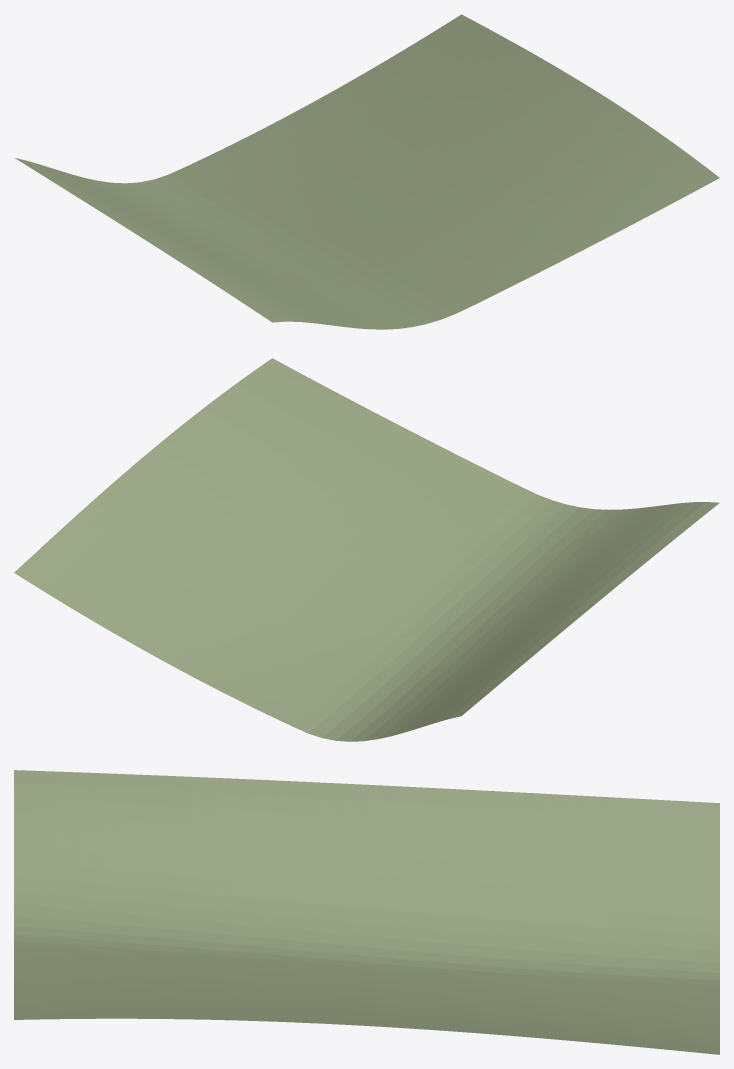
Rendered from alpine-3-6.glb.
3 views of the same model, one above another, from view 1: azimuth 30°, elevation 25°; view 2: azimuth 150°, elevation 25°; view 3: azimuth 270°, elevation 25° (orthographic). The views are drawn at different scales.
Visible parts, largest first — view 1: alpine-3-6; view 2: alpine-3-6; view 3: alpine-3-6.
Part boxes in pixels (box(x1,y1,x2,y2)): alpine-3-6: box(15, 14, 719, 329); alpine-3-6: box(14, 358, 719, 741); alpine-3-6: box(14, 770, 719, 1054).
Bounding box in the file's own units: 256 × 63.73 × 256.
